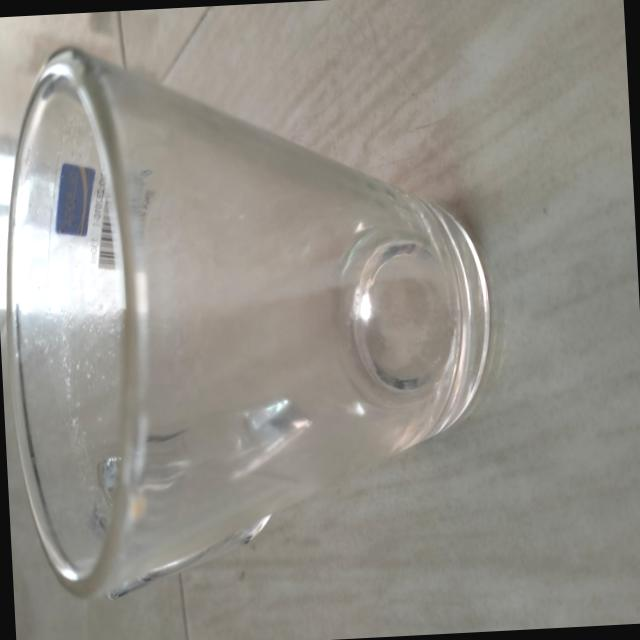glass-VX4N: (0, 22, 512, 603)
